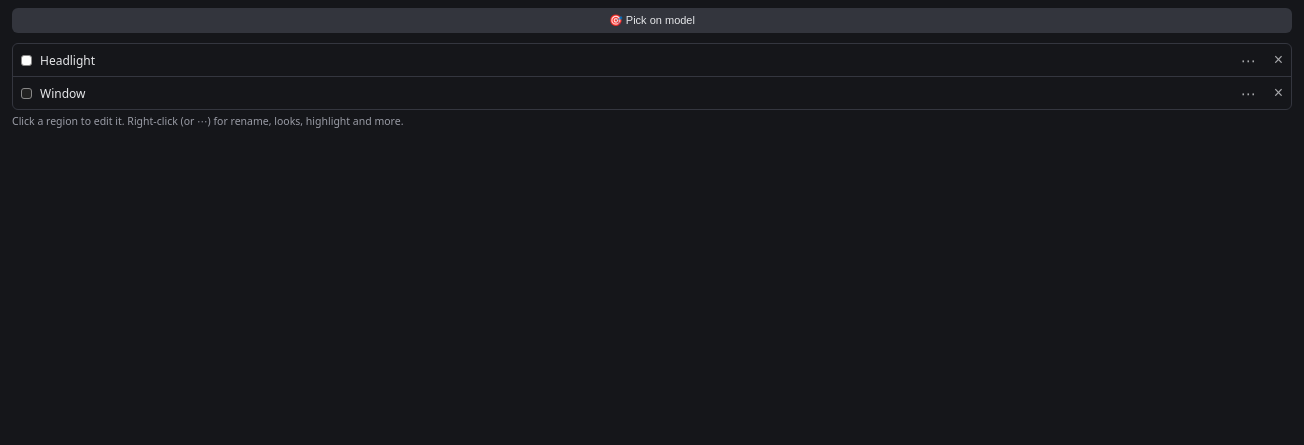
Test: Paint regions list › clicking a row opens its editor, clicking again closes it
Click the text "Headlight" at [652, 60], box [13,44,1291,77]
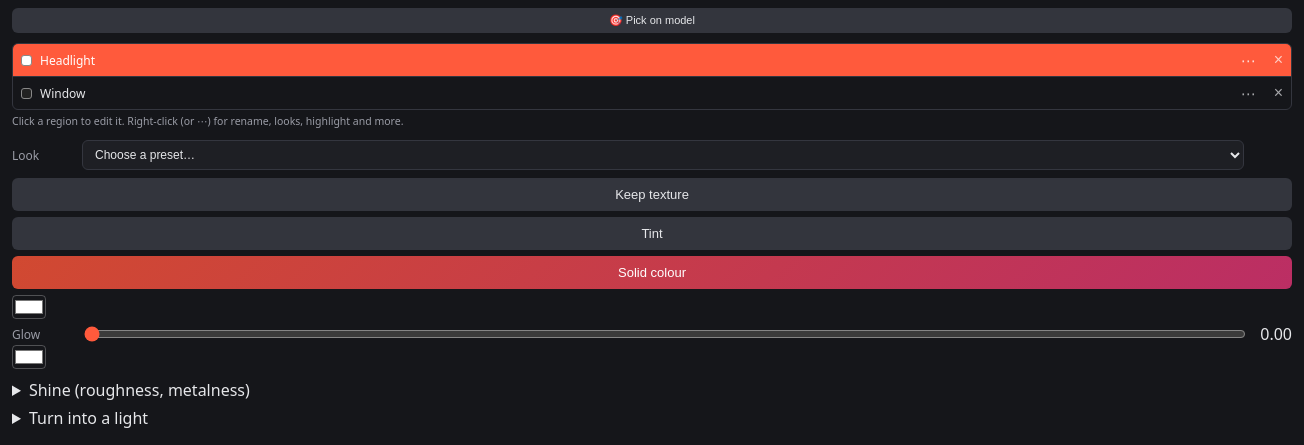
Result: the dropdown named "Region look" is shown at [82,140,1244,170]
Click the text "Headlight" at [652, 60], box [13,44,1291,77]
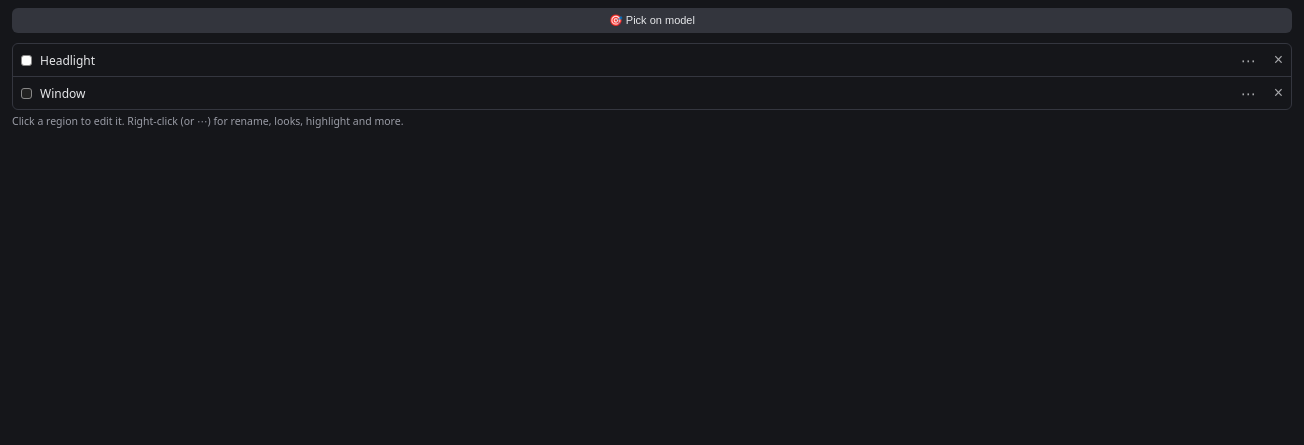
Result: the dropdown labelled "Region look" is gone
